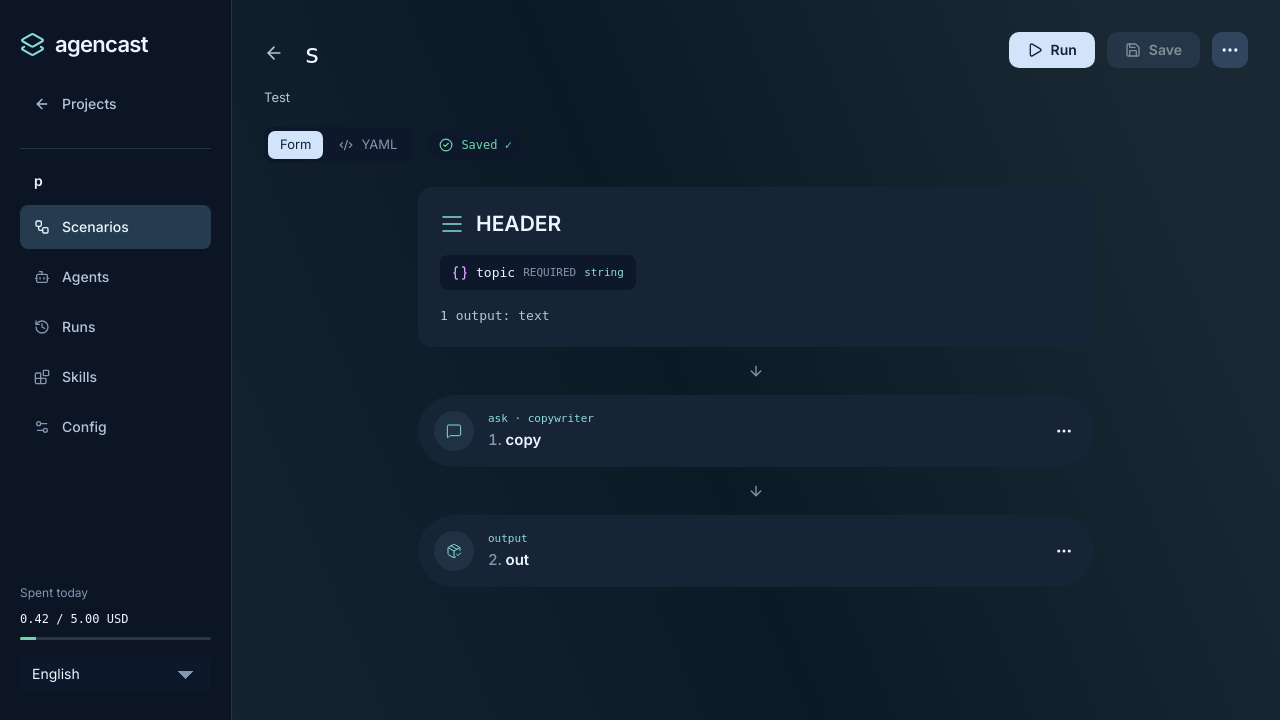
Test: scenario editor › rename sends the etag and the new name, reloads files and navigates
Expected: the button with aria-label "Step 1: ask copy" is shown, [418,395,1094,467]
Click the button named "More actions" at (1230, 50), box [1212,32,1248,68]
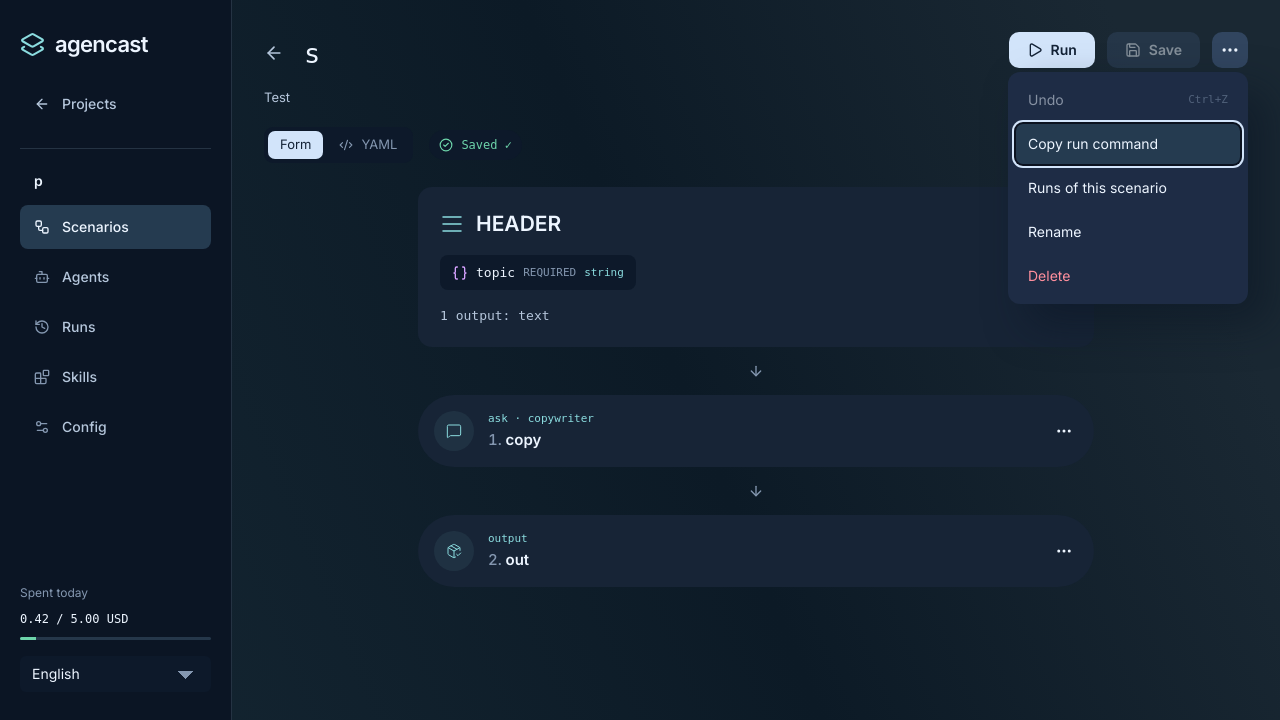
Click the menu item "Rename" at (1128, 232), box [1016,212,1240,252]
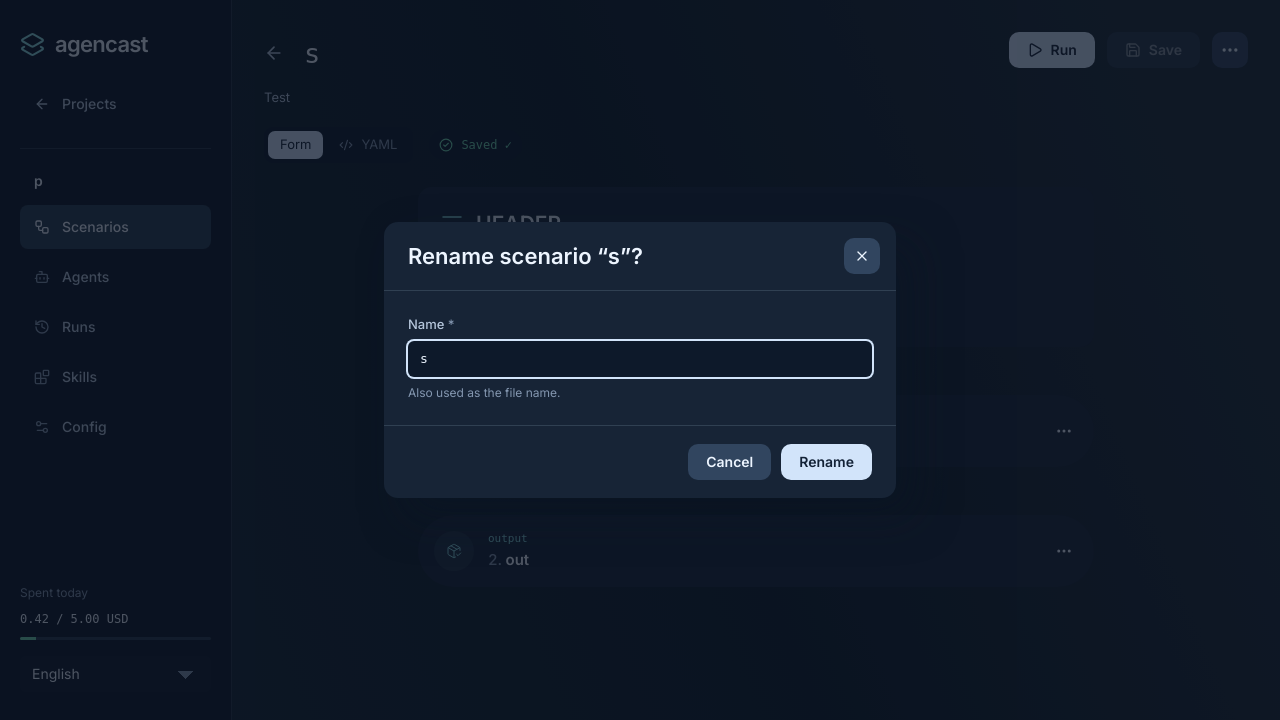
Replace the text in the field labelled "Name *" with "t" at (640, 359), box [408,341,872,377]
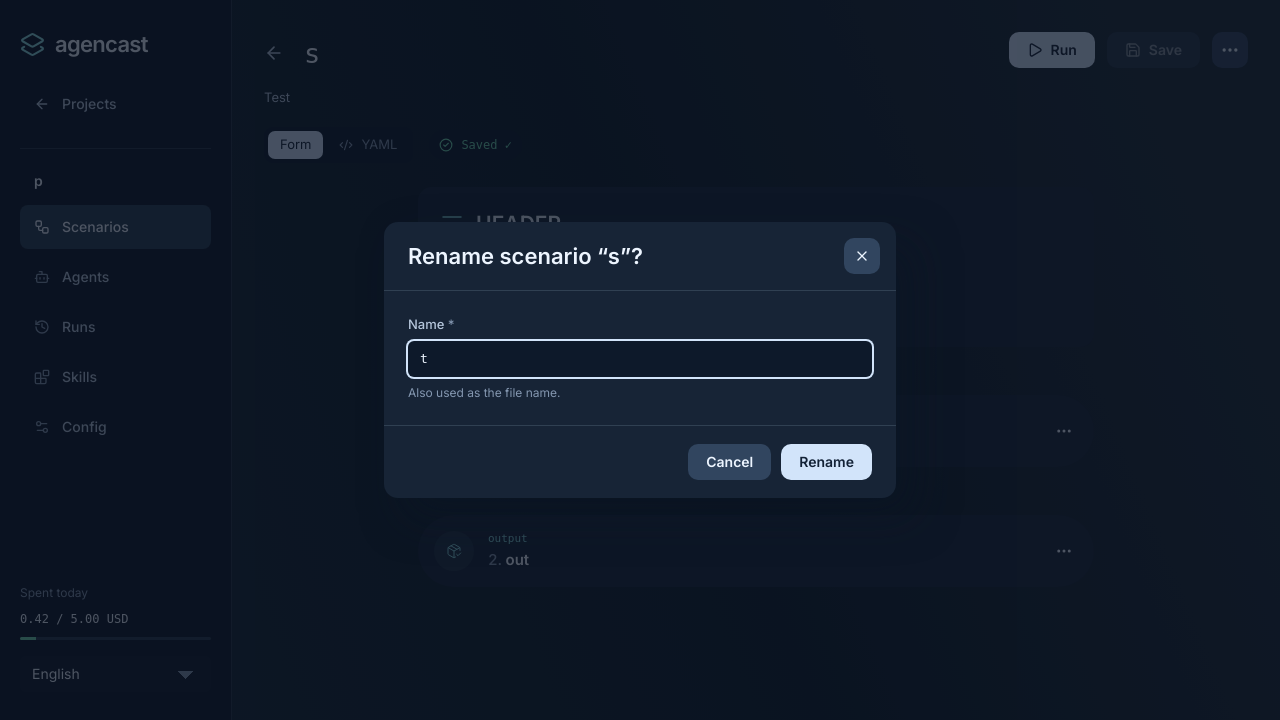
Click the button "Rename" at (827, 462), box [781,444,872,480]
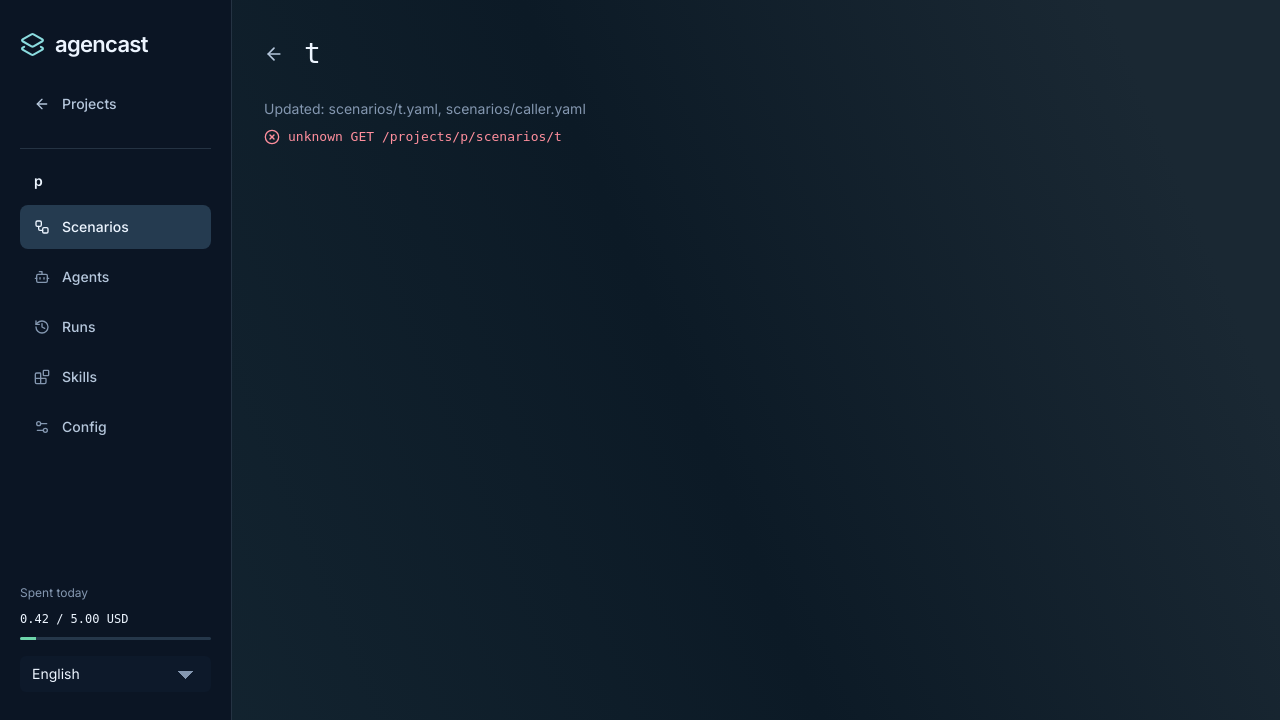
Expected: the heading "t" is shown, [304,32,321,75]
Expected: the text "Updated: scenarios/t.yaml, scenarios/caller.yaml" is shown, [264,100,586,117]
